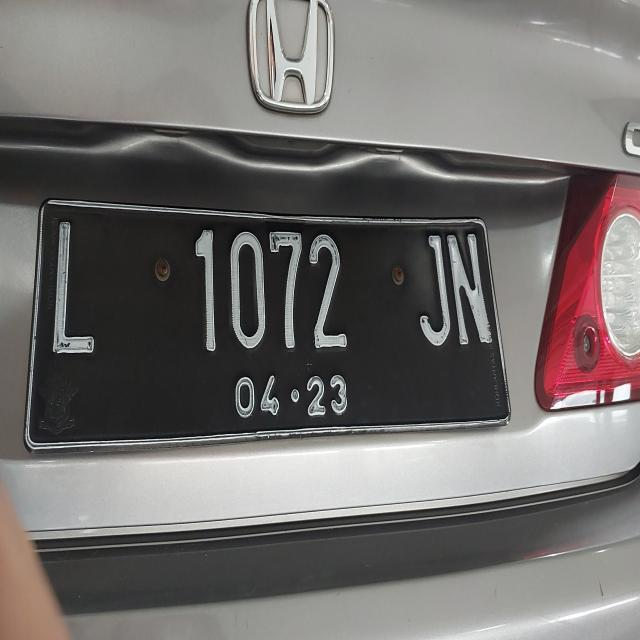0: (225, 226, 268, 354)
1: (189, 226, 222, 373)
2: (302, 224, 352, 370)
7: (270, 222, 304, 358)
J: (410, 232, 454, 348)
L: (47, 213, 99, 377)
N: (447, 227, 491, 353)
